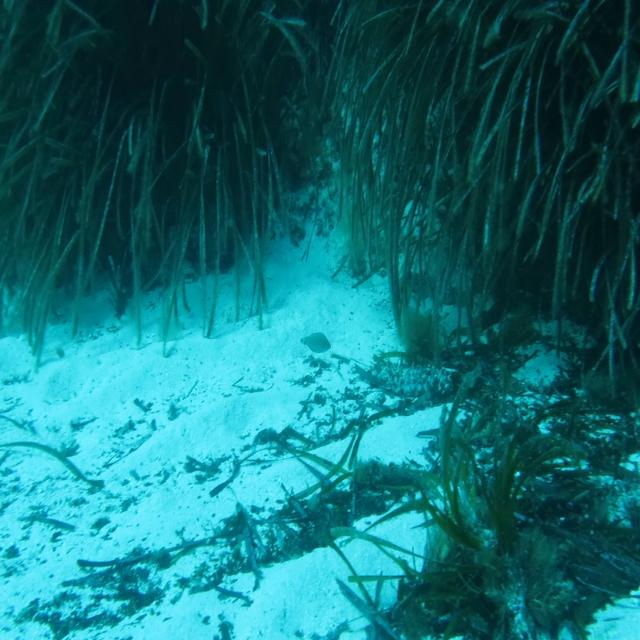SA: (297, 325, 341, 359)
vegetation: (0, 0, 640, 251), (387, 252, 640, 640)
